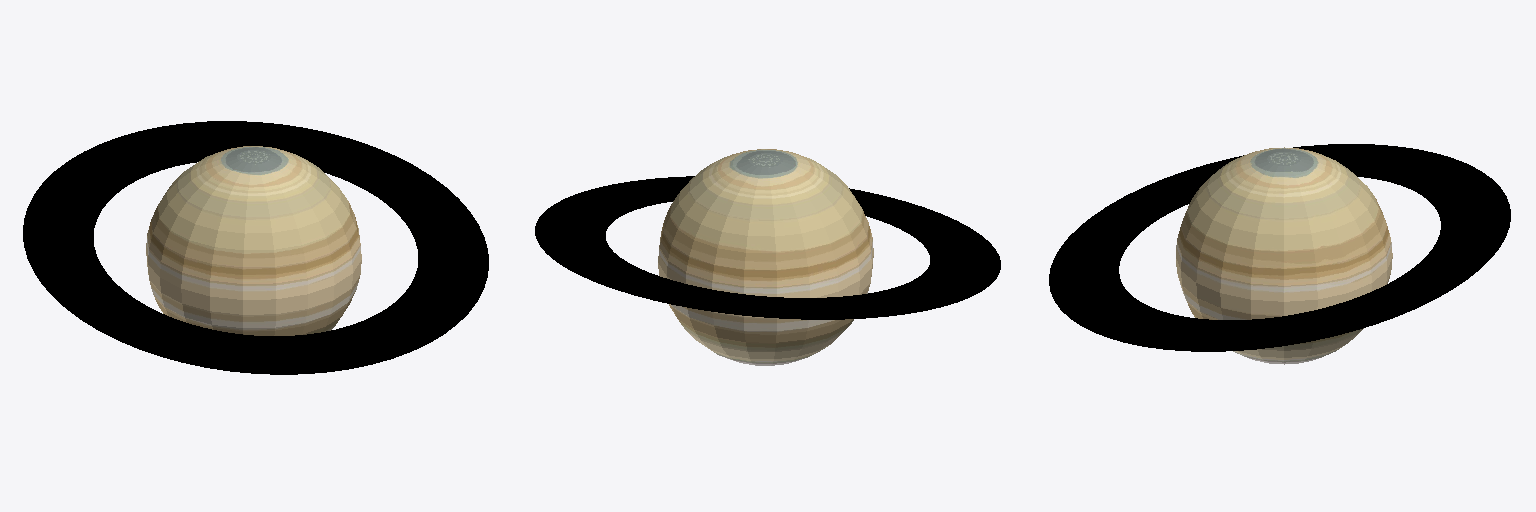
3 renders of one model, left to right at view 1: azimuth 30°, elevation 25°; view 2: azimuth 150°, elevation 25°; view 3: azimuth 270°, elevation 25°, orthographic.
Parts seen in each view (by area): view 1: AnillosSat, Saturno; view 2: Saturno, AnillosSat; view 3: AnillosSat, Saturno.
Part boxes in pixels (x1,y1,x2,y2): AnillosSat: (23,121,488,374); Saturno: (146,146,361,335); Saturno: (658,149,873,365); AnillosSat: (535,176,1000,319); AnillosSat: (1049,144,1510,351); Saturno: (1176,147,1392,364).
Bounding box in the file's own units: 4.31 × 2 × 4.26.
Materials: 2 (1 with a texture image).